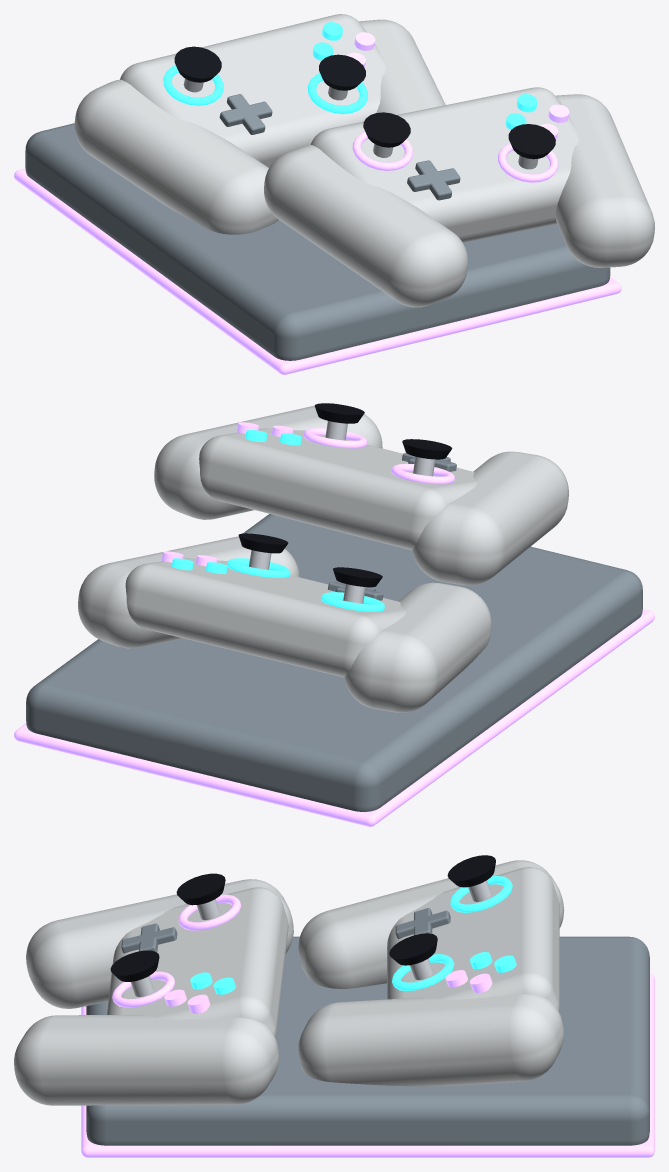
File: atelier-gaming-controller-dock-arctic.glb
3 renders of one model, top to bottom at view 1: azimuth 30°, elevation 25°; view 2: azimuth 150°, elevation 25°; view 3: azimuth 270°, elevation 25°, orthographic. The views are drawn at different scales.
Bounding box in the file's own units: 0.1916 × 0.0809 × 0.2503.
